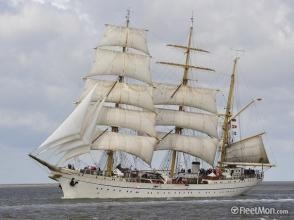fanchuan: (25, 14, 276, 196)
